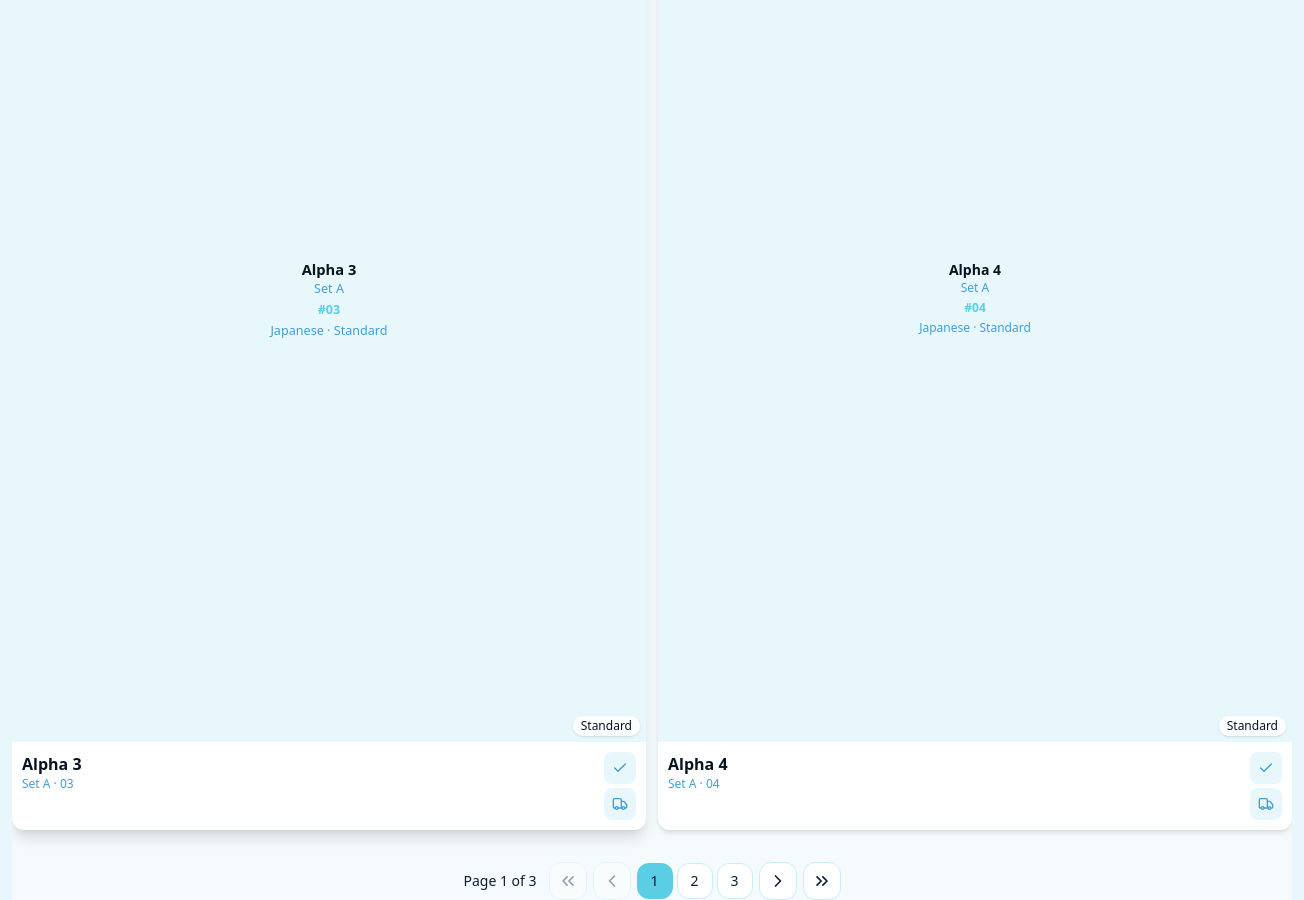
Test case: CardList pagination persistence › resets page to 1 when a filter changes
(page scrolled)
Go to page 2
Click the button named "Next page" at [778, 881], box [758,862,796,899]
(page scrolled)
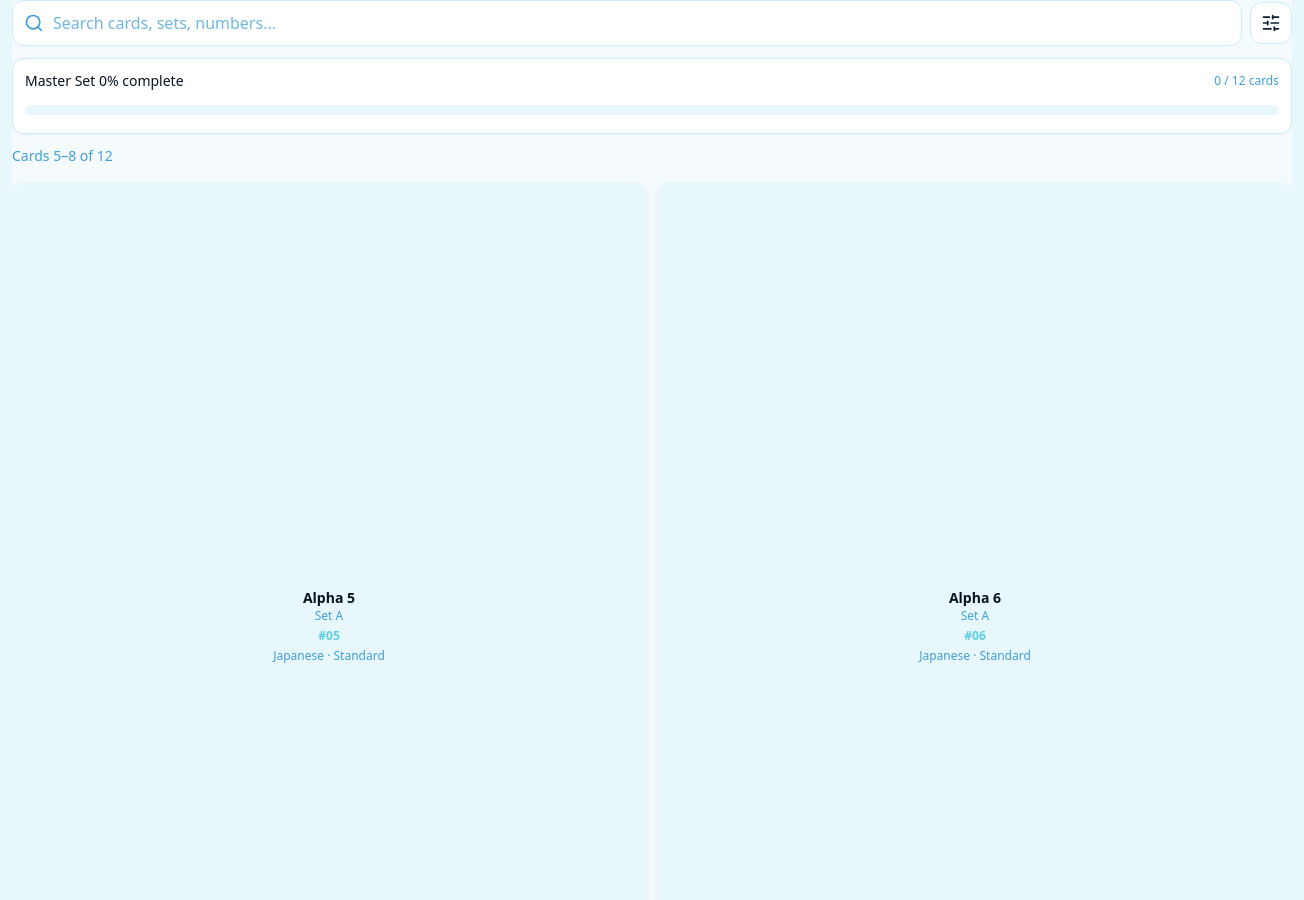
Open filters and apply set filter
Click the button named "Toggle filters" at [1271, 23], box [1250,2,1292,44]
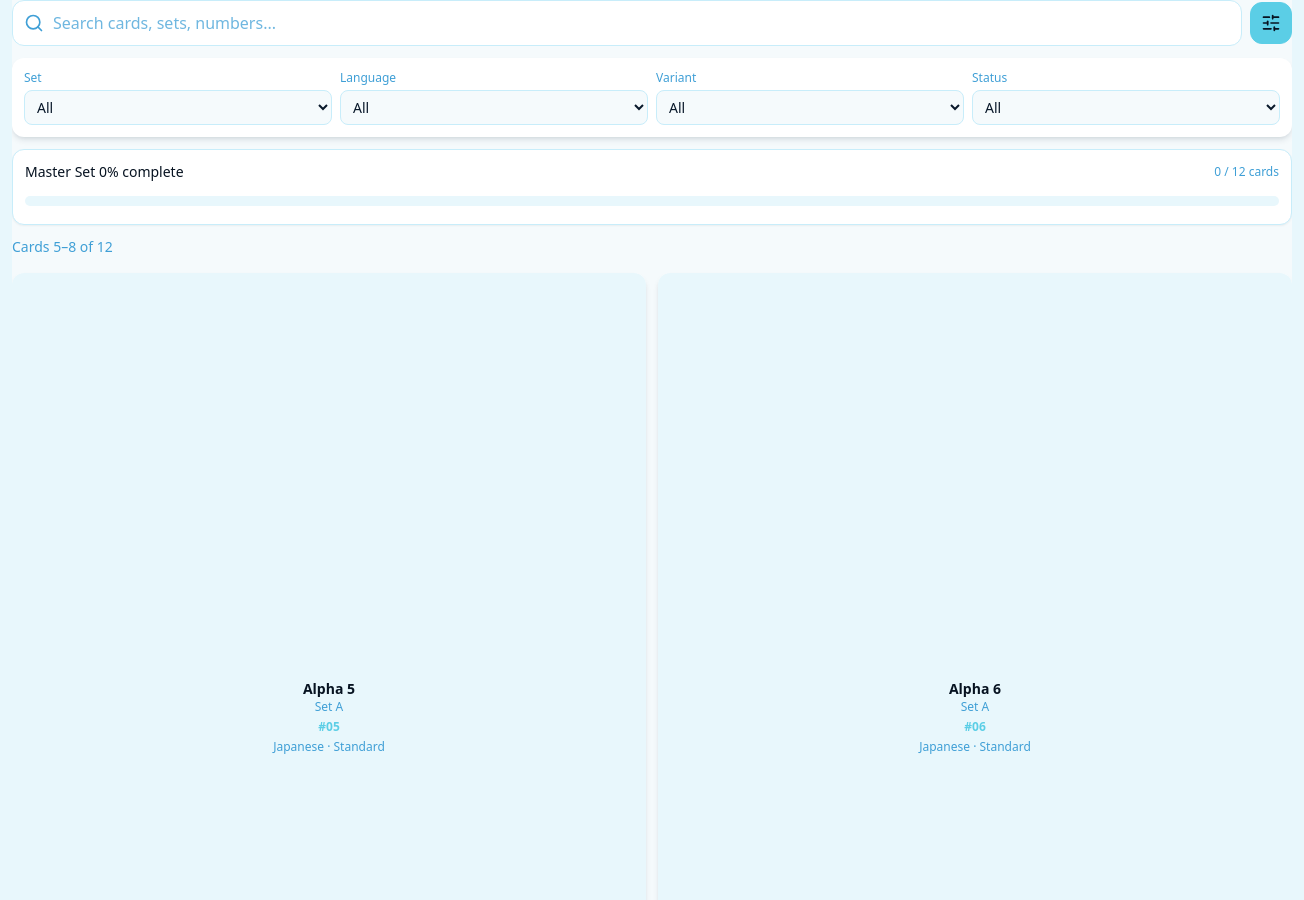
Select "Set B" in the dropdown labelled "Set" at [178, 108], box [24,90,332,125]
(page scrolled)
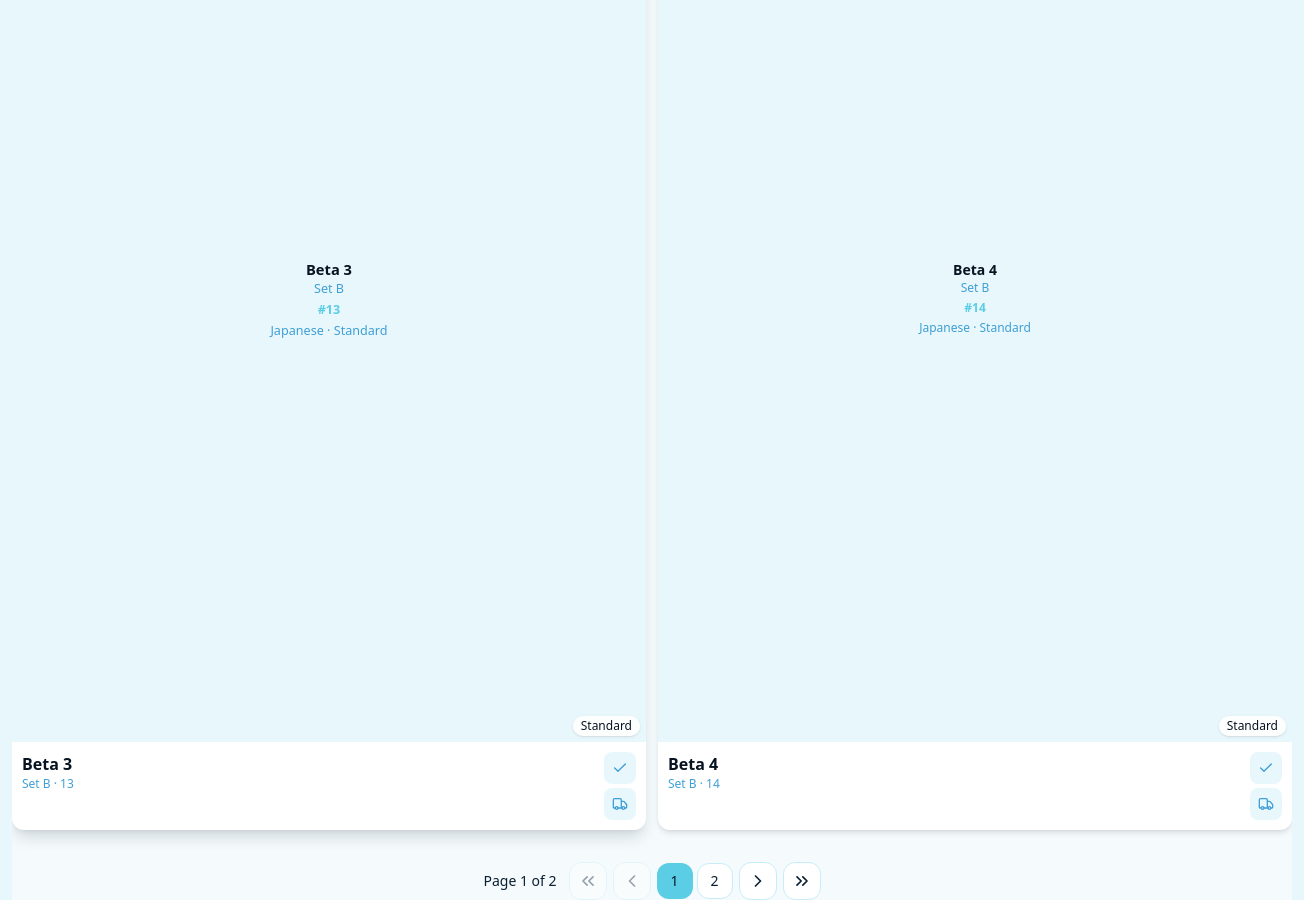
Expected: the text "Page 1 of 2" is shown, [484,871,557,891]
